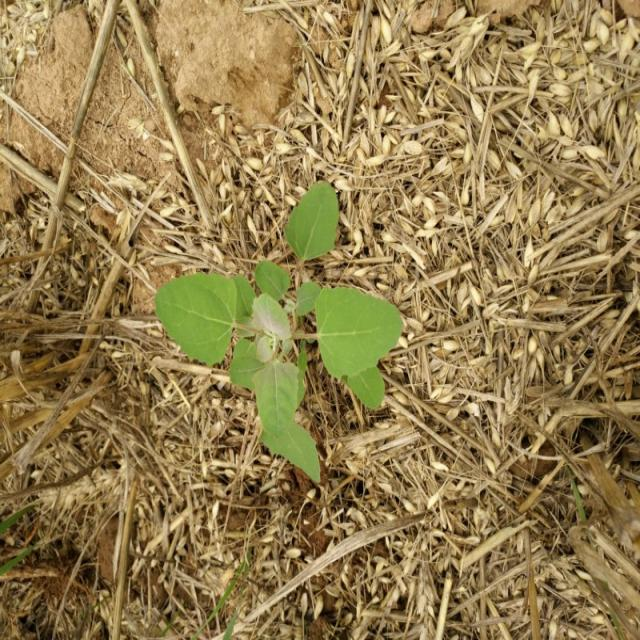ca: (154, 180, 405, 488)
